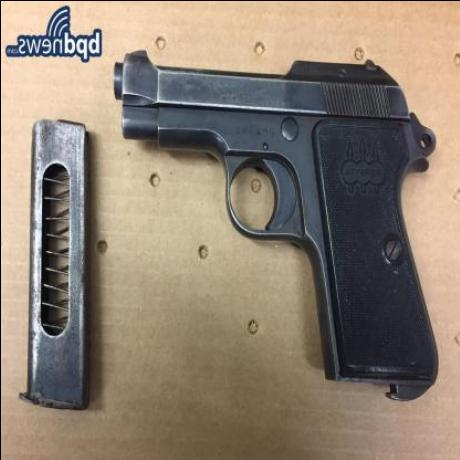weapon: (76, 45, 444, 398)
